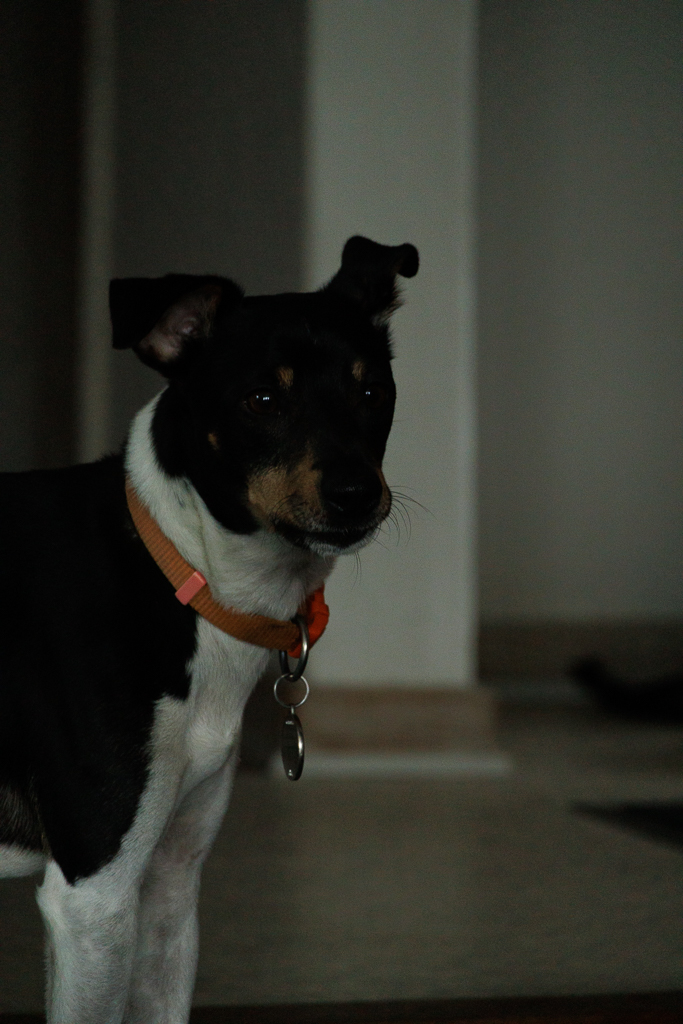Dog: (0, 228, 443, 1024)
